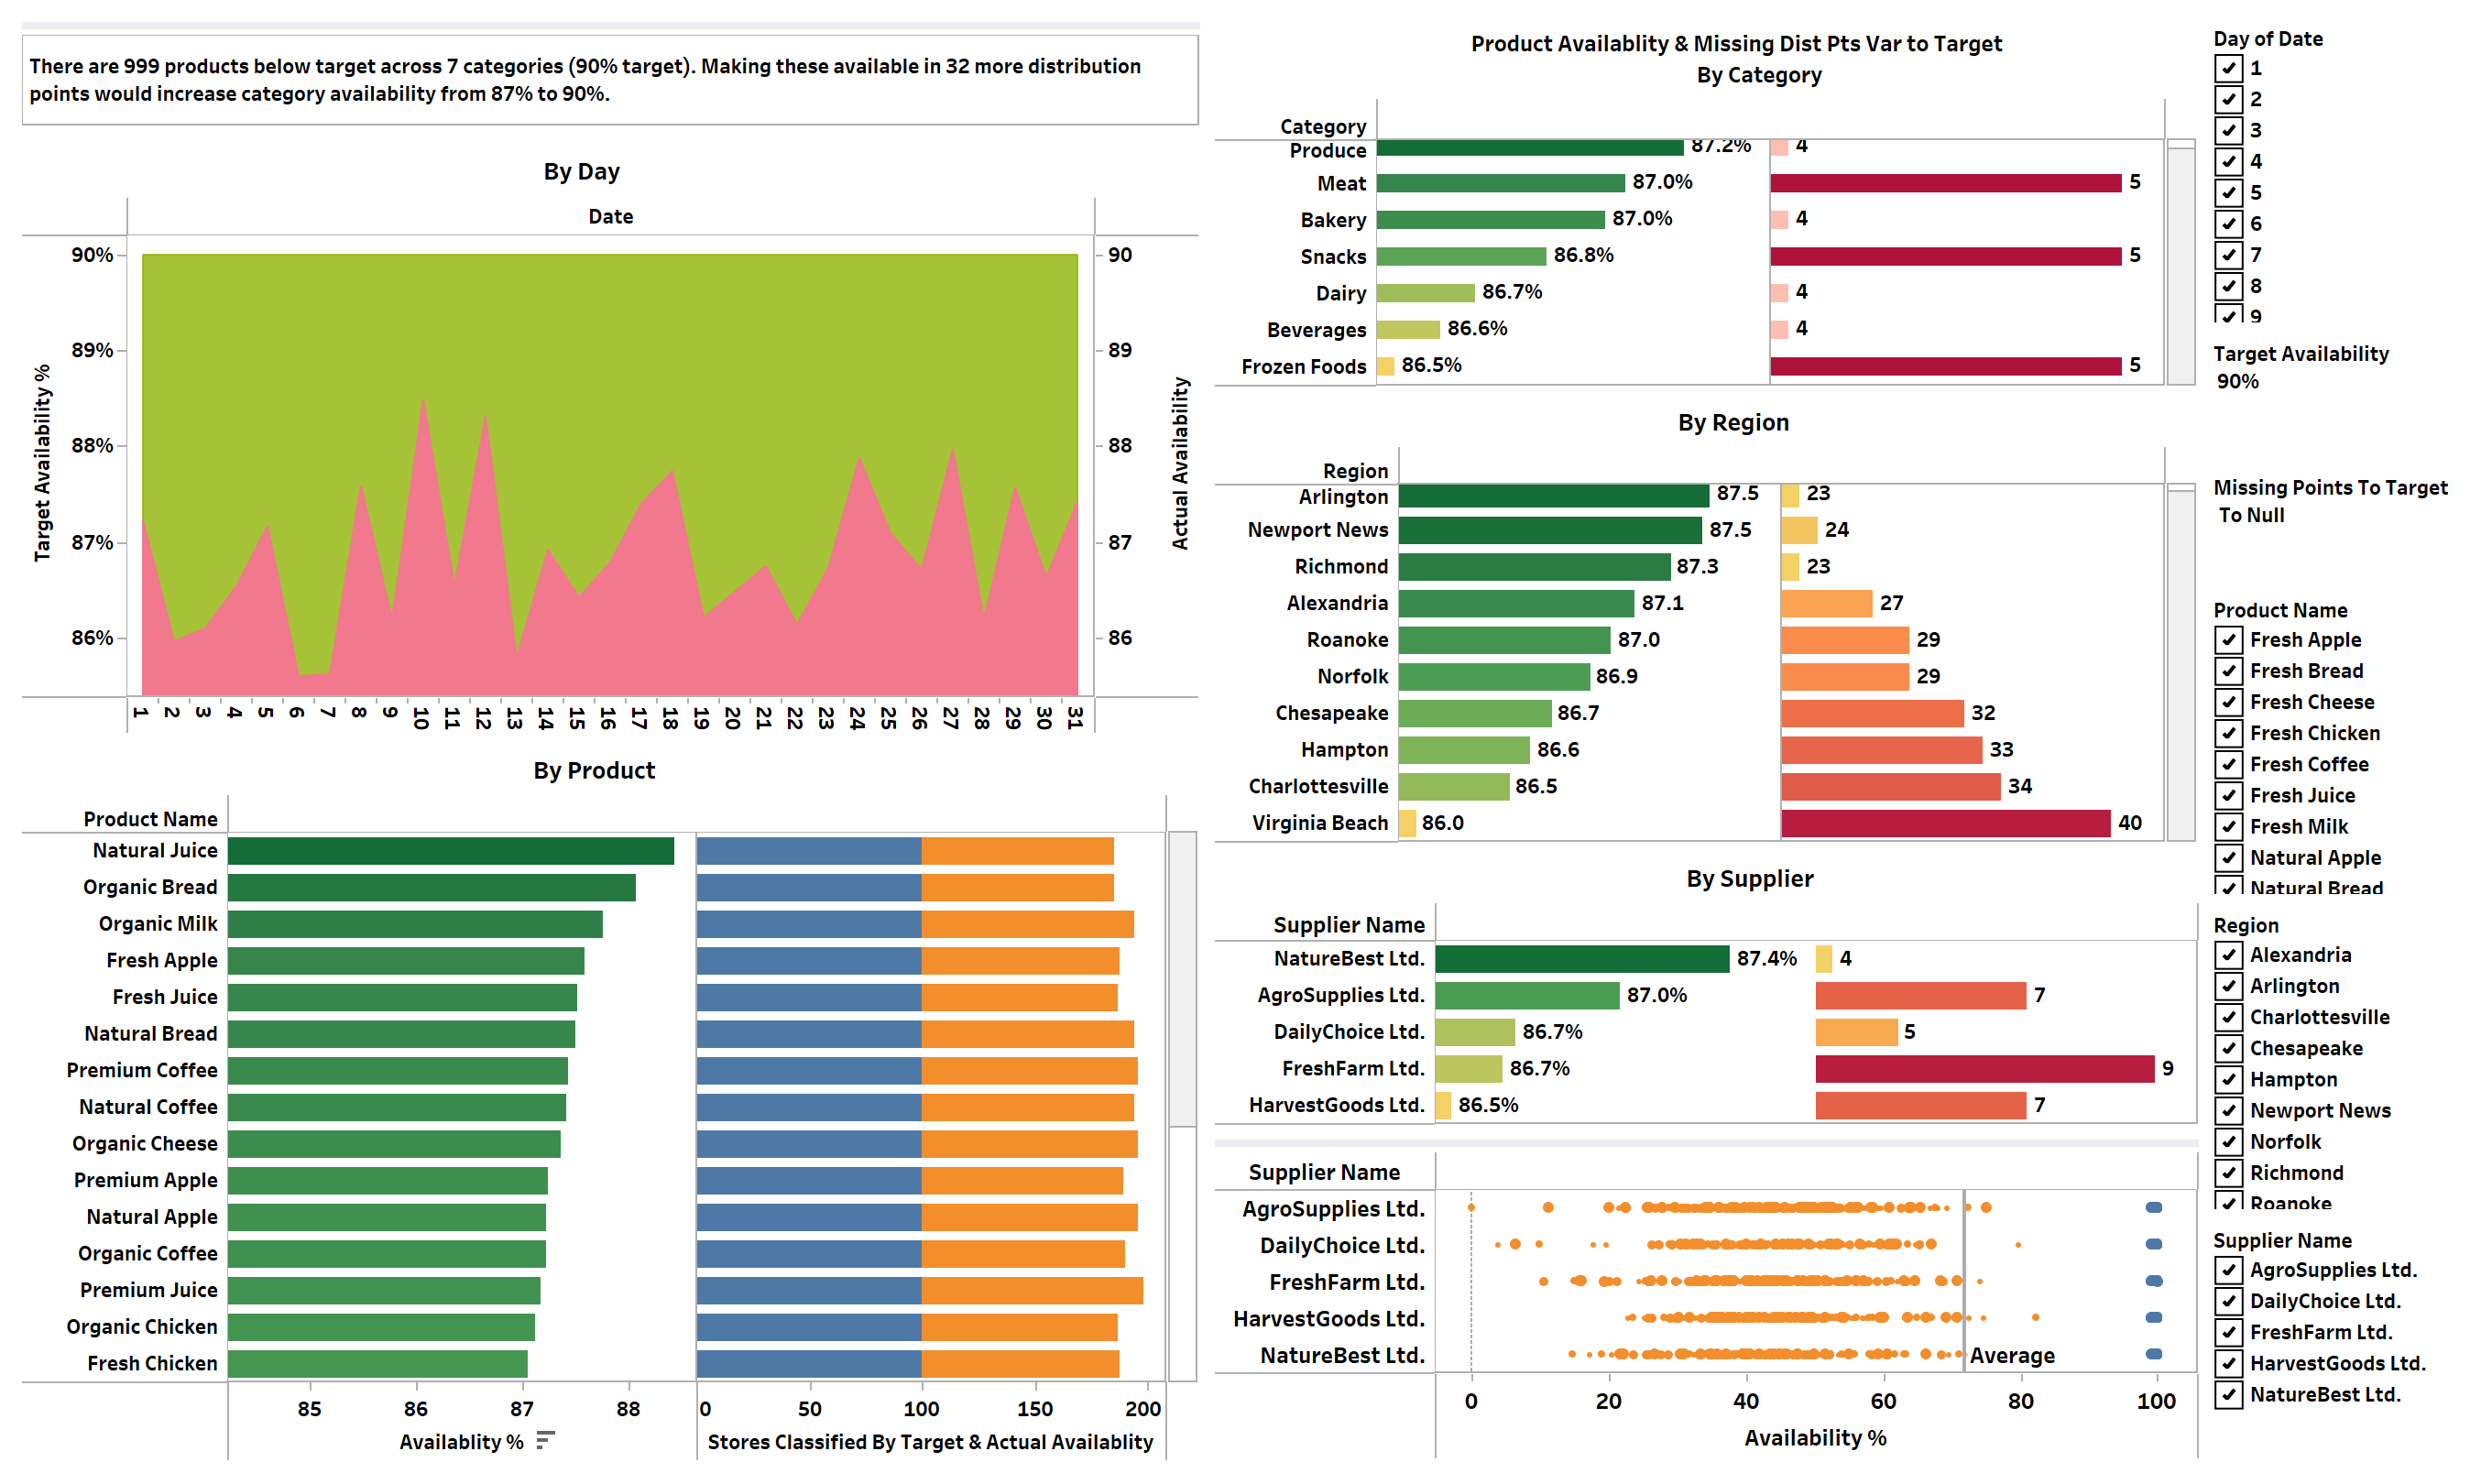

Layout of this report page (visuals, bound fields, positions):
{"tool":"tableau","page":{"name":"Product Availablity Dashboard","canvas":[1000,1000],"units":"permille","ordinal":0},"visuals":[{"type":"worksheet","title":"Dynamic Text","mark":"Automatic","box":[2.7,4.5,514.1,42]},{"type":"worksheet","title":"Category Availability","mark":"Bar","rows":["Category"],"cols":["Calculation_4028751379940560897","Calculation_4028751379963949061"],"box":[516.8,4.5,430.5,258.2]},{"type":"filter","title":"By Region","param":"[federated.1xjk8tt1kfnuyl12xvt7208kyfzh].[dy:Date:ok]","box":[947.3,4.5,50,339.1]},{"type":"worksheet","title":"Availability By Day","mark":"Area","rows":["Calculation_4028751379940560897"],"cols":["Date"],"box":[2.7,46.5,514.1,419.7]},{"type":"worksheet","title":"By Region","mark":"Automatic","rows":["Region"],"cols":["Calculation_4028751379940560897","Calculation_4028751379963949061"],"box":[516.8,262.6,430.5,311]},{"type":"parameter","param":"[Parameters].[Parameter 1]","box":[947.3,343.6,50,40.9]},{"type":"filter","title":"By Region","param":"[federated.1xjk8tt1kfnuyl12xvt7208kyfzh].[usr:Calculation_4028751379963949061:qk","box":[947.3,384.4,50,37.5]},{"type":"filter","title":"By Region","param":"[federated.1xjk8tt1kfnuyl12xvt7208kyfzh].[none:ProductName:nk]","box":[947.3,421.9,50,308.9]},{"type":"worksheet","title":"By Product","mark":"Automatic","rows":["ProductName"],"cols":["Calculation_4028751379940560897","stores_25E3848BC6BE48D78ED75D01737F2C90"],"box":[2.7,499.8,514.1,495.7]},{"type":"worksheet","title":"Supplier Analysis","mark":"Automatic","rows":["SupplierName"],"cols":["Calculation_4028751379940560897","Calculation_4028751379963949061"],"box":[516.8,573.6,430.5,191.8]},{"type":"filter","title":"By Region","param":"[federated.1xjk8tt1kfnuyl12xvt7208kyfzh].[none:Region:nk]","box":[947.3,730.9,50,127.6]},{"type":"worksheet","title":"Supplier Analysis SKU's","mark":"Circle","rows":["SupplierName"],"cols":["Calculation_4028751379940560897"],"box":[516.8,765.4,430.5,230.2]},{"type":"filter","title":"By Region","param":"[federated.1xjk8tt1kfnuyl12xvt7208kyfzh].[none:SupplierName:nk]","box":[947.3,858.4,50,77.2]}]}

Visuals, with their boxes on the dashboard's canvas, which has no fixed pixel size, in thousandths of its width and height (x1, y1, x2, y2). These are canvas units, not pixel positions in the 2492x1484 screenshot, which may show the page scaled, cropped or inside an application window:
"Dynamic Text" worksheet: box(3, 4, 517, 46)
"Category Availability" worksheet (Bar marks): box(517, 4, 947, 263)
"By Region" filter: box(947, 4, 997, 344)
"Availability By Day" worksheet (Area marks): box(3, 46, 517, 466)
"By Region" worksheet: box(517, 263, 947, 574)
parameter: box(947, 344, 997, 384)
"By Region" filter: box(947, 384, 997, 422)
"By Region" filter: box(947, 422, 997, 731)
"By Product" worksheet: box(3, 500, 517, 996)
"Supplier Analysis" worksheet: box(517, 574, 947, 765)
"By Region" filter: box(947, 731, 997, 858)
"Supplier Analysis SKU's" worksheet (Circle marks): box(517, 765, 947, 996)
"By Region" filter: box(947, 858, 997, 936)
